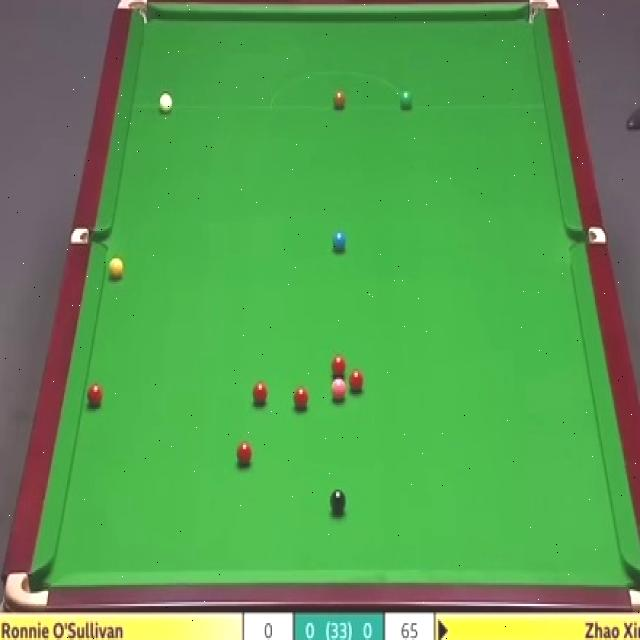black-ball: (330, 488, 347, 516)
blue-ball: (331, 229, 347, 253)
brown-ball: (332, 90, 346, 110)
green-ball: (400, 88, 412, 113)
pink-ball: (332, 377, 347, 402)
red-ball: (235, 440, 254, 467), (293, 386, 310, 414), (253, 380, 269, 409), (86, 382, 103, 409), (349, 369, 366, 396), (332, 352, 346, 380)
white-ball: (158, 90, 172, 114)
yellow-ball: (108, 256, 123, 280)
